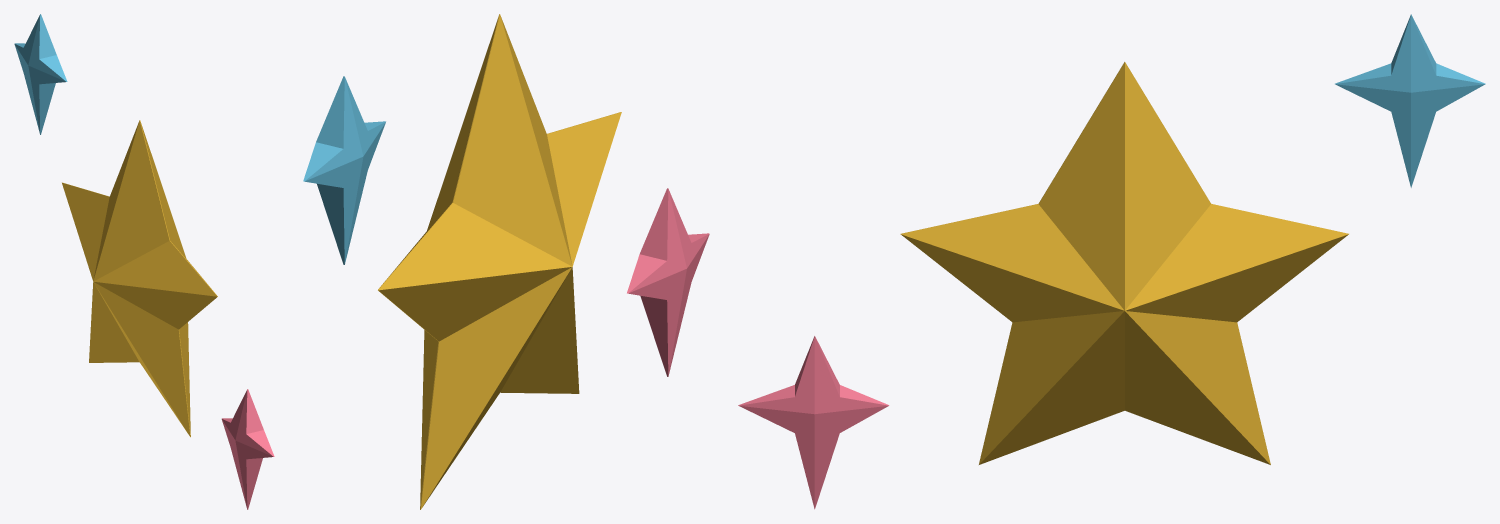
File: star2.gltf
3 renders of one model, left to right at view 1: azimuth 30°, elevation 25°; view 2: azimuth 150°, elevation 25°; view 3: azimuth 270°, elevation 25°, orthographic. The views are drawn at different scales.
Visible parts, largest first — view 1: 5star, 4star-1, 4star-2; view 2: 5star, 4star-1, 4star-2; view 3: 5star, 4star-1, 4star-2.
Boxes of the visible parts, <box> form: 5star: <box>62,120,217,437</box>; 4star-1: <box>221,389,274,509</box>; 4star-2: <box>14,14,67,134</box>; 5star: <box>378,14,621,509</box>; 4star-1: <box>627,188,709,376</box>; 4star-2: <box>303,76,385,264</box>; 5star: <box>900,62,1348,464</box>; 4star-1: <box>738,336,889,509</box>; 4star-2: <box>1335,14,1485,187</box>.
Size of the model in its own units: 1.06 by 3.74 by 5.12.
